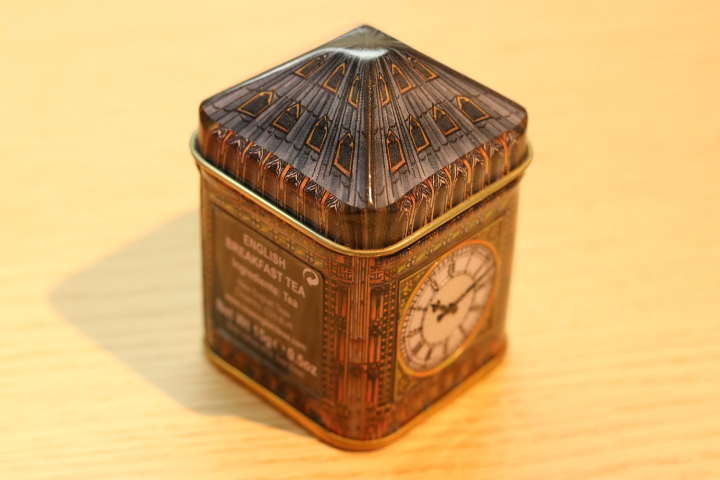Big Ben: (166, 13, 577, 462)
